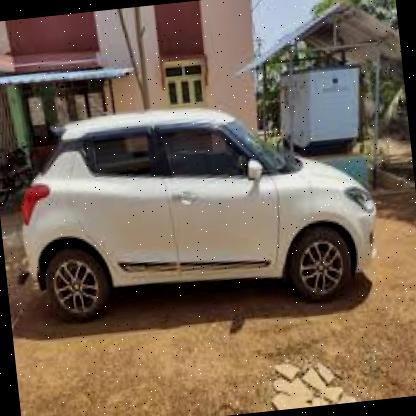car: (0, 78, 392, 343)
